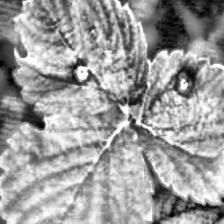Leaf Spot: (12, 0, 150, 121), (136, 47, 224, 205)
